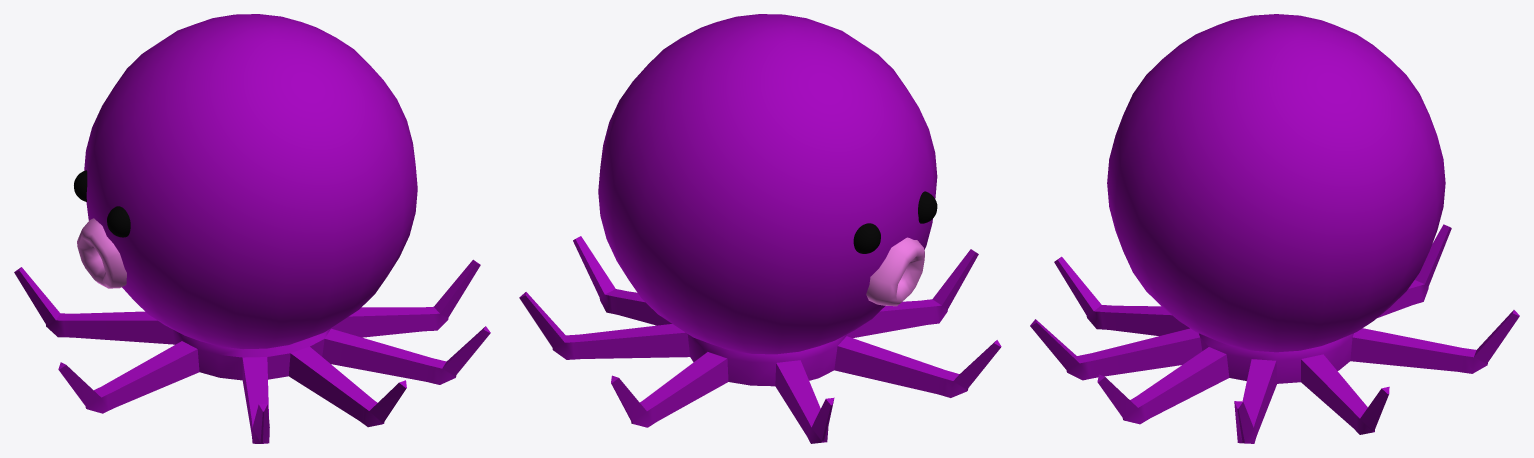
Rendered from Player_Octopus.fbx.
3 views of the same model, side by side, from view 1: azimuth 30°, elevation 25°; view 2: azimuth 150°, elevation 25°; view 3: azimuth 270°, elevation 25° (orthographic).
Visible parts, largest first — view 1: Octopus_Body1; view 2: Octopus_Body1; view 3: Octopus_Body1.
Part boxes in pixels (x1,y1,x2,y2): Octopus_Body1: [14, 14, 490, 443]; Octopus_Body1: [519, 14, 1001, 443]; Octopus_Body1: [1030, 14, 1519, 443].
Size of the model in its own units: 2.9 by 2.18 by 2.89.
